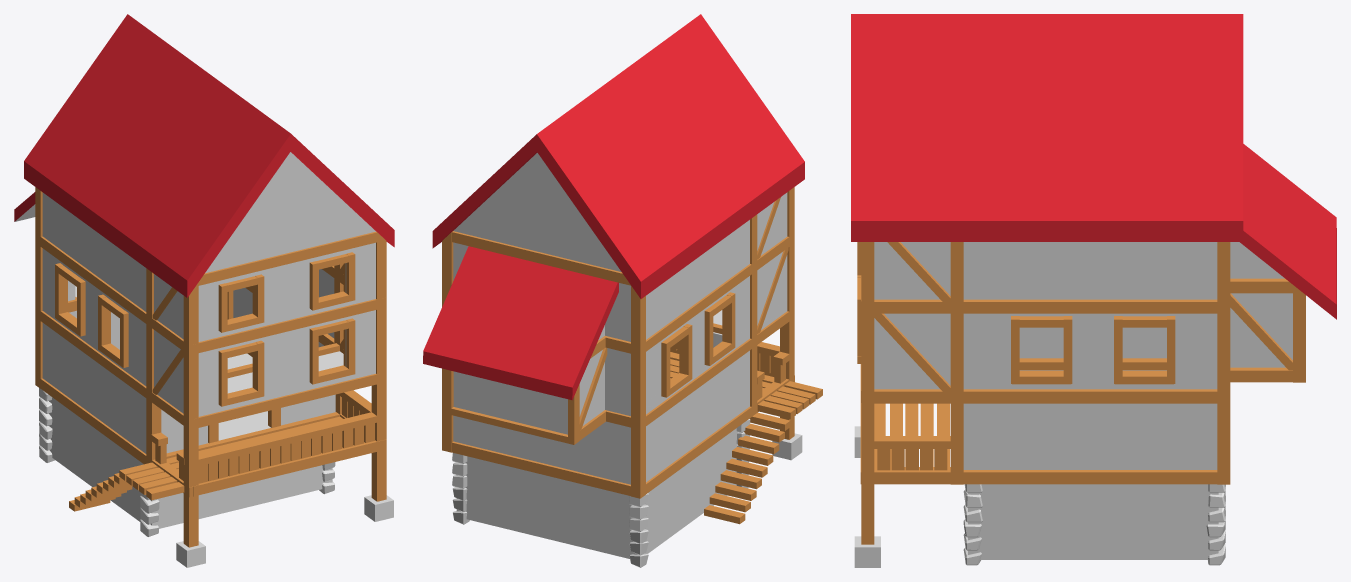
Rendered from Building1.fbx.
3 renders of one model, left to right at view 1: azimuth 30°, elevation 25°; view 2: azimuth 150°, elevation 25°; view 3: azimuth 270°, elevation 25°, orthographic. The views are drawn at different scales.
Parts seen in each view (by area): view 1: House Base, Wooden Support 1, Wooden Support 2, Wooden Support 10.011, Wooden Support 10.007, Wooden Support 10.008, Wooden Support 10.039, Wooden Support 10.002, Wooden Support 6.003, Wooden Support 6.002, Wooden Support 7, Wooden Support 3 (+14 smaller); view 2: House Base, Wooden Support 16, Wooden Support 1, Wooden Support 10.006, Wooden Support 10.001, Wooden Support 6.003, Wooden Support 6.002, Wooden Support 7, Wooden Support 3, Wooden Support 17, Wooden Support 11, Wooden Support 10.065 (+5 smaller); view 3: House Base, Wooden Support 7.001, Wooden Support 2, Wooden Support 6, Wooden Support 6.001, Wooden Support 17, Wooden Support 2.001, Wooden Support 5, Wooden Support 7, Wooden Support 10.094, Wooden Support 10.040, Wooden Support 14 (+9 smaller).
Boxes of the visible parts, left/top/right/bottom form: House Base: left=14, top=14, right=394, bottom=528; Wooden Support 1: left=176, top=286, right=205, bottom=567; Wooden Support 2: left=364, top=240, right=393, bottom=521; Wooden Support 10.011: left=193, top=440, right=385, bottom=496; Wooden Support 10.007: left=193, top=372, right=385, bottom=428; Wooden Support 10.008: left=193, top=298, right=385, bottom=354; Wooden Support 10.039: left=198, top=412, right=376, bottom=465; Wooden Support 10.002: left=196, top=231, right=384, bottom=286; Wooden Support 6.003: left=37, top=309, right=186, bottom=427; Wooden Support 6.002: left=37, top=235, right=186, bottom=352; Wooden Support 7: left=36, top=375, right=197, bottom=497; Wooden Support 3: left=146, top=268, right=161, bottom=459; House Base: left=423, top=14, right=804, bottom=558; Wooden Support 16: left=631, top=286, right=645, bottom=498; Wooden Support 1: left=772, top=187, right=802, bottom=460; Wooden Support 10.006: left=452, top=441, right=630, bottom=495; Wooden Support 10.001: left=452, top=231, right=630, bottom=285; Wooden Support 6.003: left=642, top=310, right=791, bottom=428; Wooden Support 6.002: left=642, top=235, right=791, bottom=353; Wooden Support 7: left=641, top=375, right=794, bottom=497; Wooden Support 3: left=750, top=214, right=757, bottom=416; Wooden Support 17: left=442, top=232, right=453, bottom=452; Wooden Support 11: left=445, top=407, right=571, bottom=444; Wooden Support 10.065: left=679, top=324, right=692, bottom=378; House Base: left=851, top=14, right=1336, bottom=559; Wooden Support 7.001: left=860, top=467, right=1217, bottom=484; Wooden Support 2: left=854, top=242, right=880, bottom=567; Wooden Support 6: left=874, top=389, right=1224, bottom=403; Wooden Support 6.001: left=873, top=299, right=1219, bottom=313; Wooden Support 17: left=1217, top=242, right=1230, bottom=484; Wooden Support 2.001: left=950, top=242, right=963, bottom=484; Wooden Support 5: left=1293, top=285, right=1305, bottom=382; Wooden Support 7: left=1019, top=358, right=1166, bottom=370; Wooden Support 10.094: left=871, top=310, right=952, bottom=395; Wooden Support 10.040: left=874, top=436, right=950, bottom=448; Wooden Support 14: left=1230, top=367, right=1292, bottom=382.
Bounding box in the file's own units: 437 × 741 × 652.
